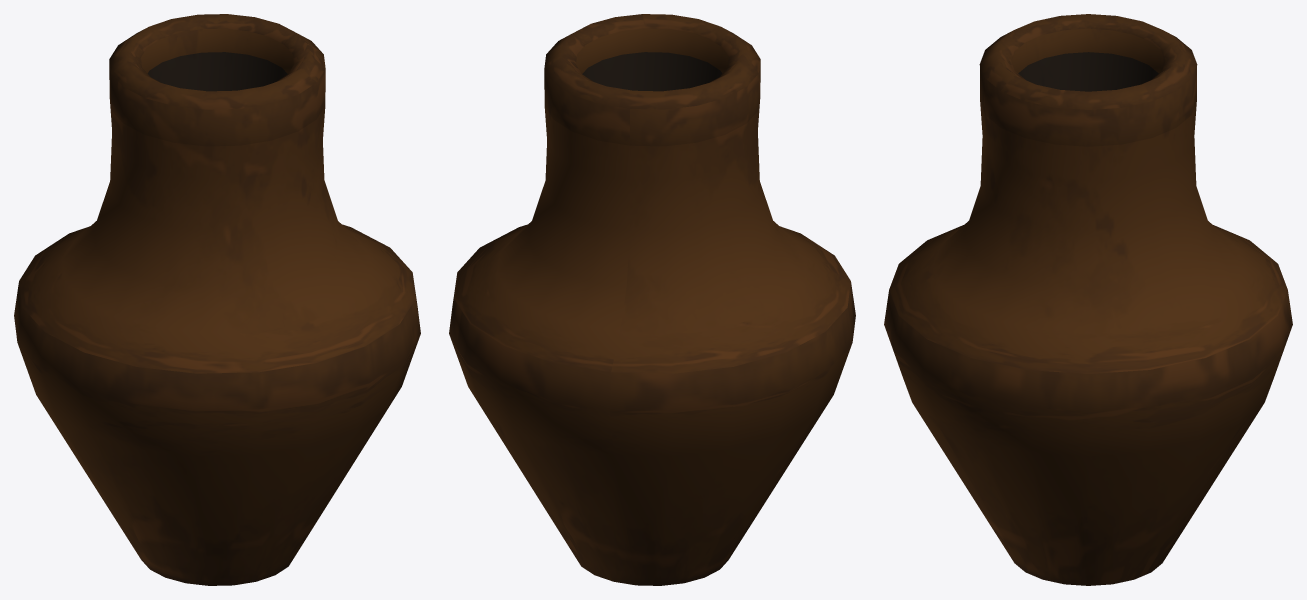
File: Vase_4.gltf
3 renders of one model, left to right at view 1: azimuth 30°, elevation 25°; view 2: azimuth 150°, elevation 25°; view 3: azimuth 270°, elevation 25°, orthographic.
Parts seen in each view (by area): view 1: Vase_4; view 2: Vase_4; view 3: Vase_4.
Boxes of the visible parts, x1,y1,x2,y2 form: Vase_4: (14, 14, 420, 585); Vase_4: (449, 14, 855, 585); Vase_4: (884, 14, 1292, 585).
Bounding box in the file's own units: 0.3596 × 0.4855 × 0.3596.
1 material, 1 textured.
